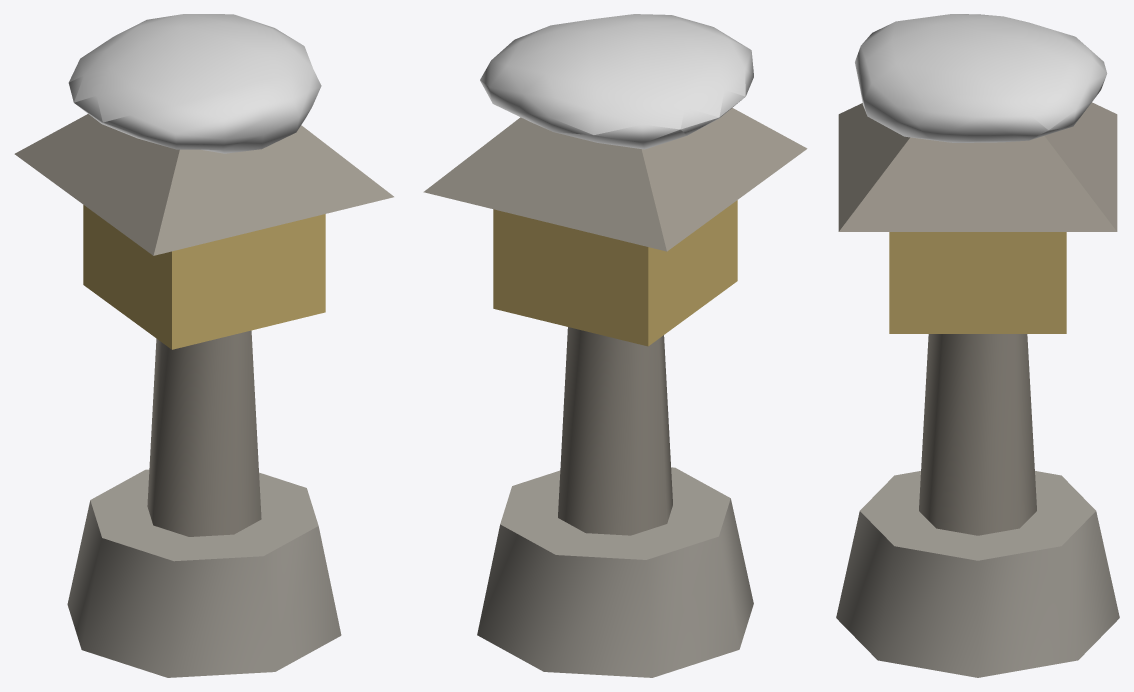
The model's file is snow_lantern.glb.
3 views of the same model, side by side, from view 1: azimuth 30°, elevation 25°; view 2: azimuth 150°, elevation 25°; view 3: azimuth 270°, elevation 25° (orthographic).
Parts seen in each view (by area): view 1: decor-snow_lantern; view 2: decor-snow_lantern; view 3: decor-snow_lantern.
Boxes of the visible parts, left/top/right/bottom form: decor-snow_lantern: left=14, top=14, right=393, bottom=677; decor-snow_lantern: left=423, top=14, right=807, bottom=677; decor-snow_lantern: left=836, top=14, right=1119, bottom=677.
Size of the model in its own units: 0.7201 by 1.61 by 0.7201.
